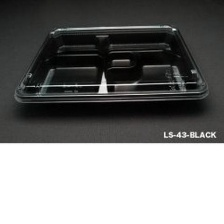plastic_box: (6, 16, 215, 118)
